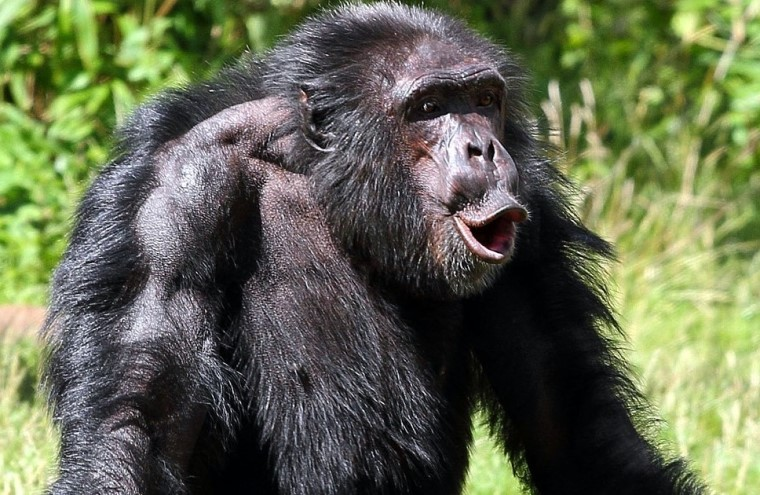Chimpanzee: (62, 5, 582, 489)
